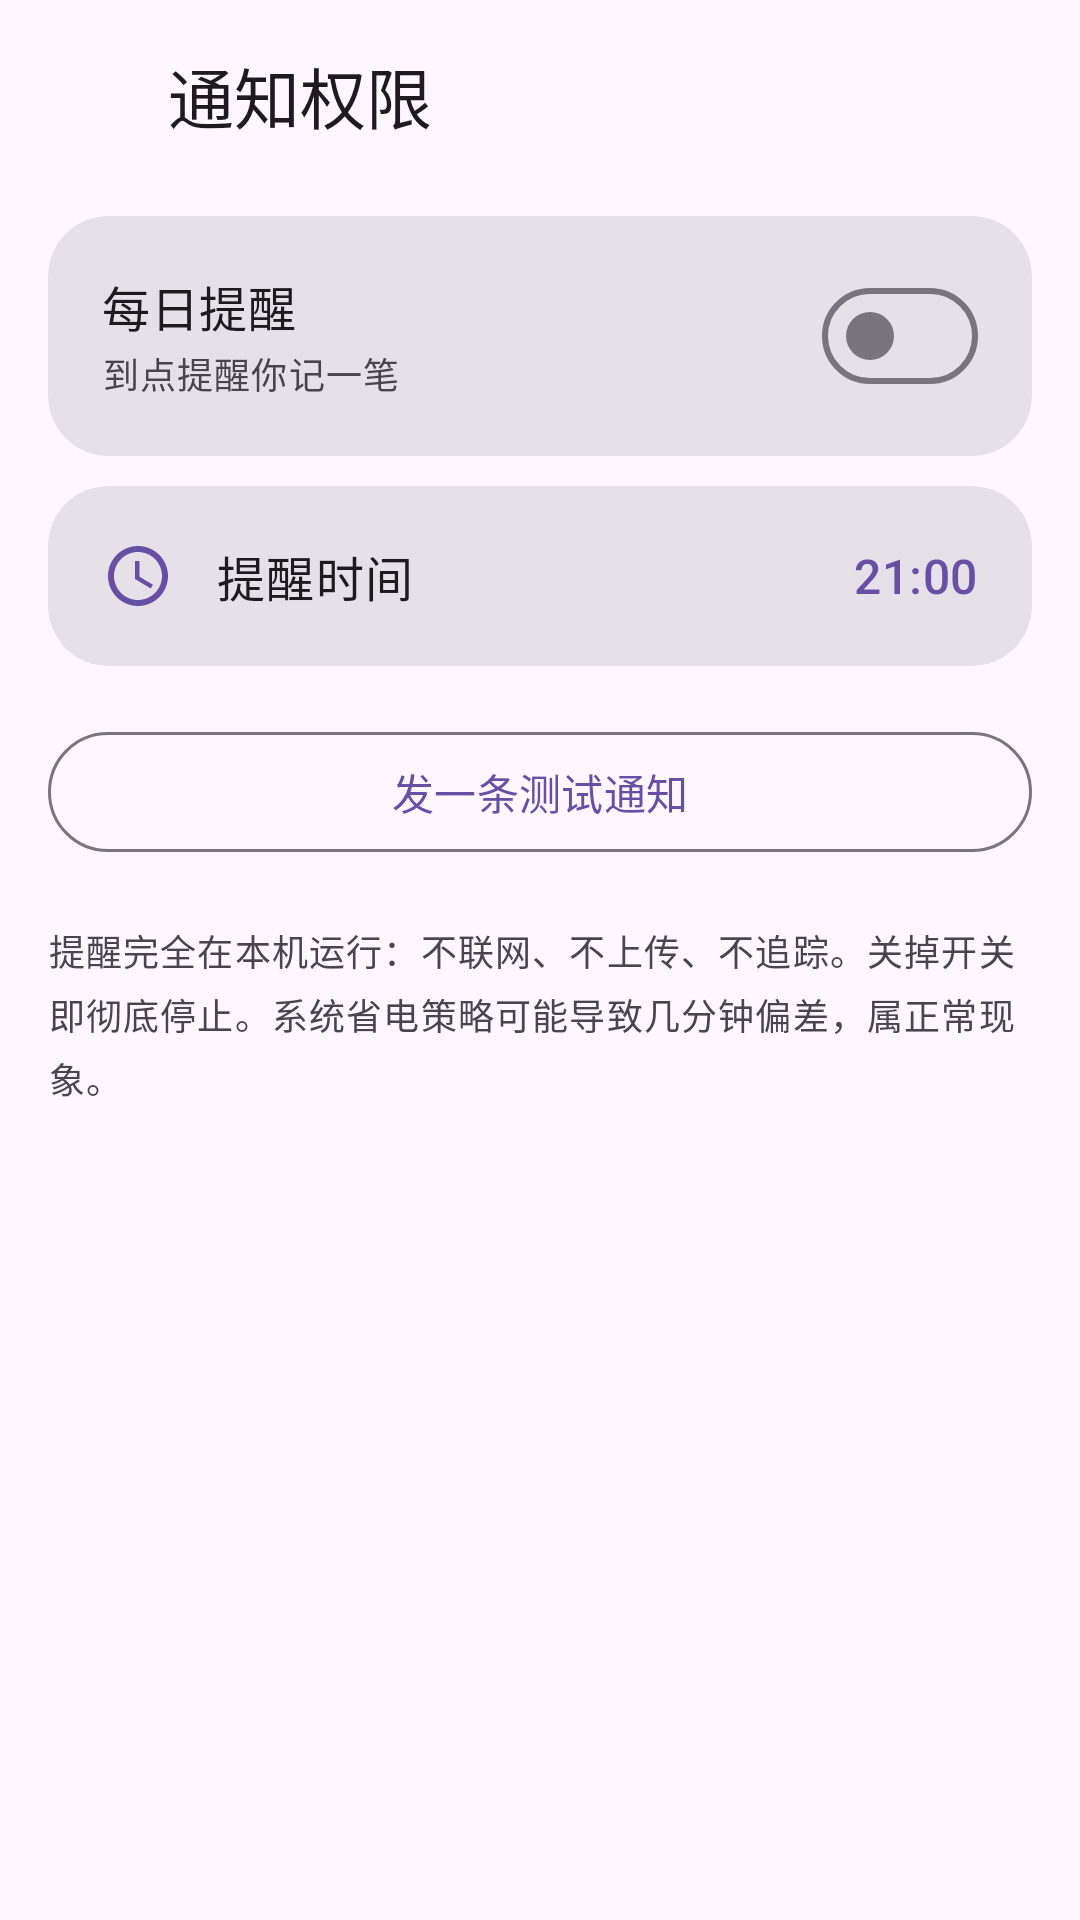

Where icons sit on this 1080×1920 app screen, as {"left": x1, "top": y1, "right": x2, "bottom": y2}:
clock: {"left": 108, "top": 546, "right": 168, "bottom": 606}
